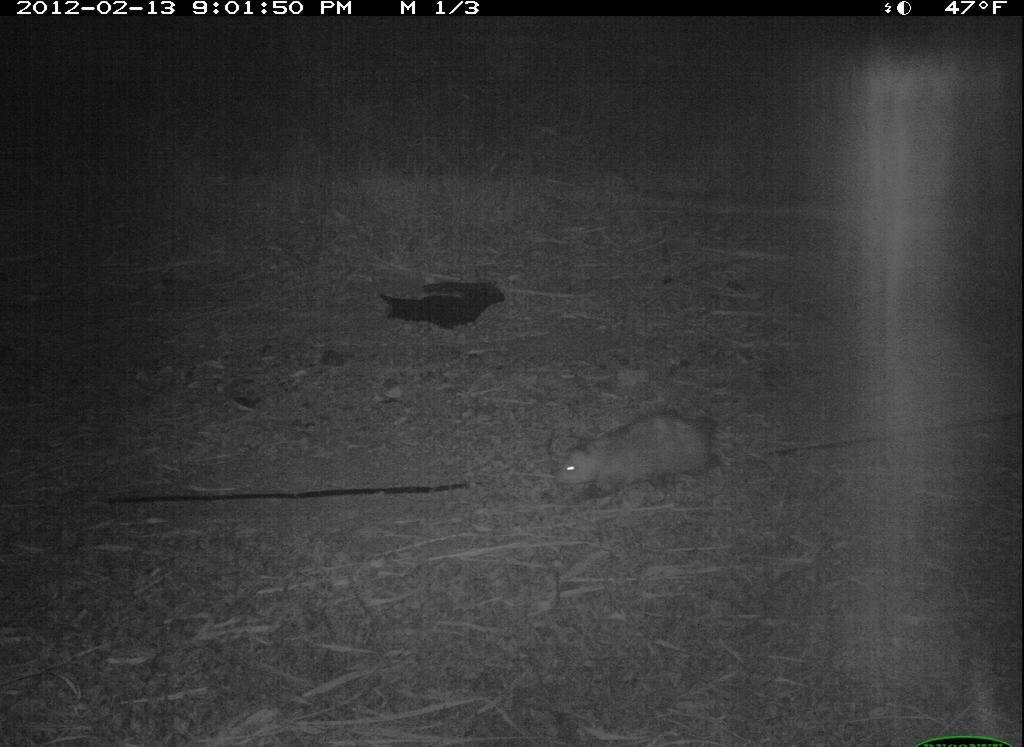opossum: (525, 397, 734, 504)
